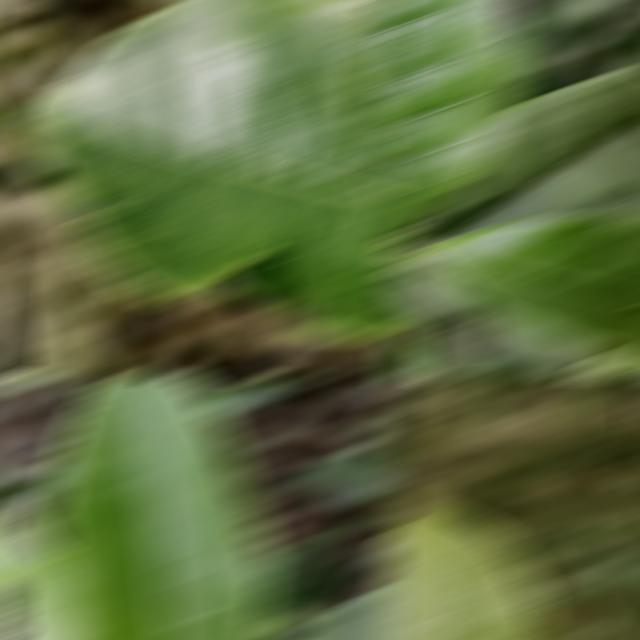Leaf: (9, 3, 398, 335), (43, 380, 276, 637), (401, 68, 640, 241), (392, 218, 640, 361), (382, 3, 527, 228), (382, 508, 547, 637), (0, 508, 88, 637), (257, 538, 338, 608), (293, 454, 398, 503), (506, 9, 576, 71), (201, 385, 293, 410), (548, 3, 624, 19)
